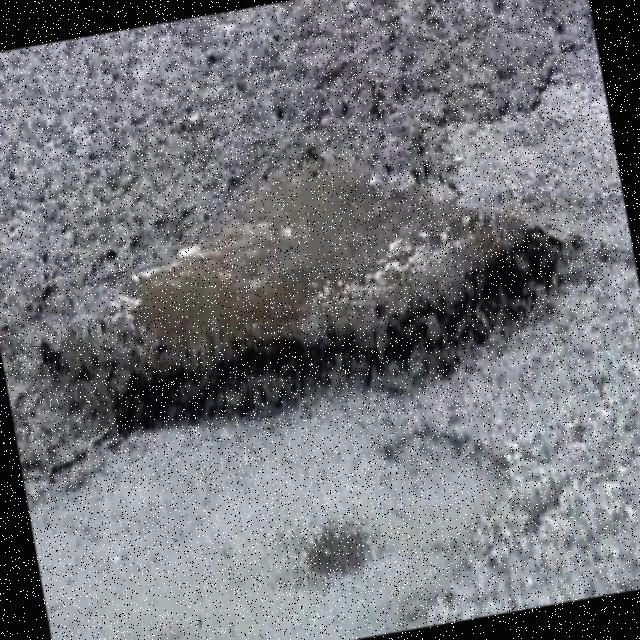Pothole: (11, 144, 606, 487)
